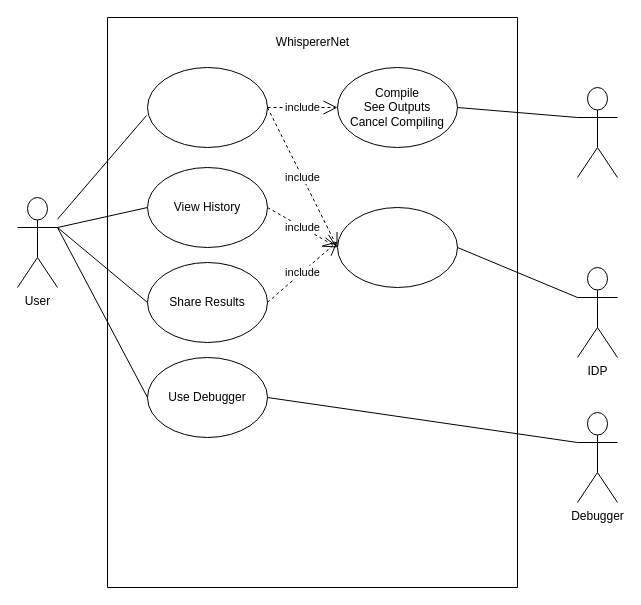
The diagram is 641 pixels wide and 605 high, and some of its shapes have lost their labels. The centre of each missing label's shape, as x and y in pixels:
Boards: [597,132]
Log in: [397,247]
Upload Code: [207,107]
